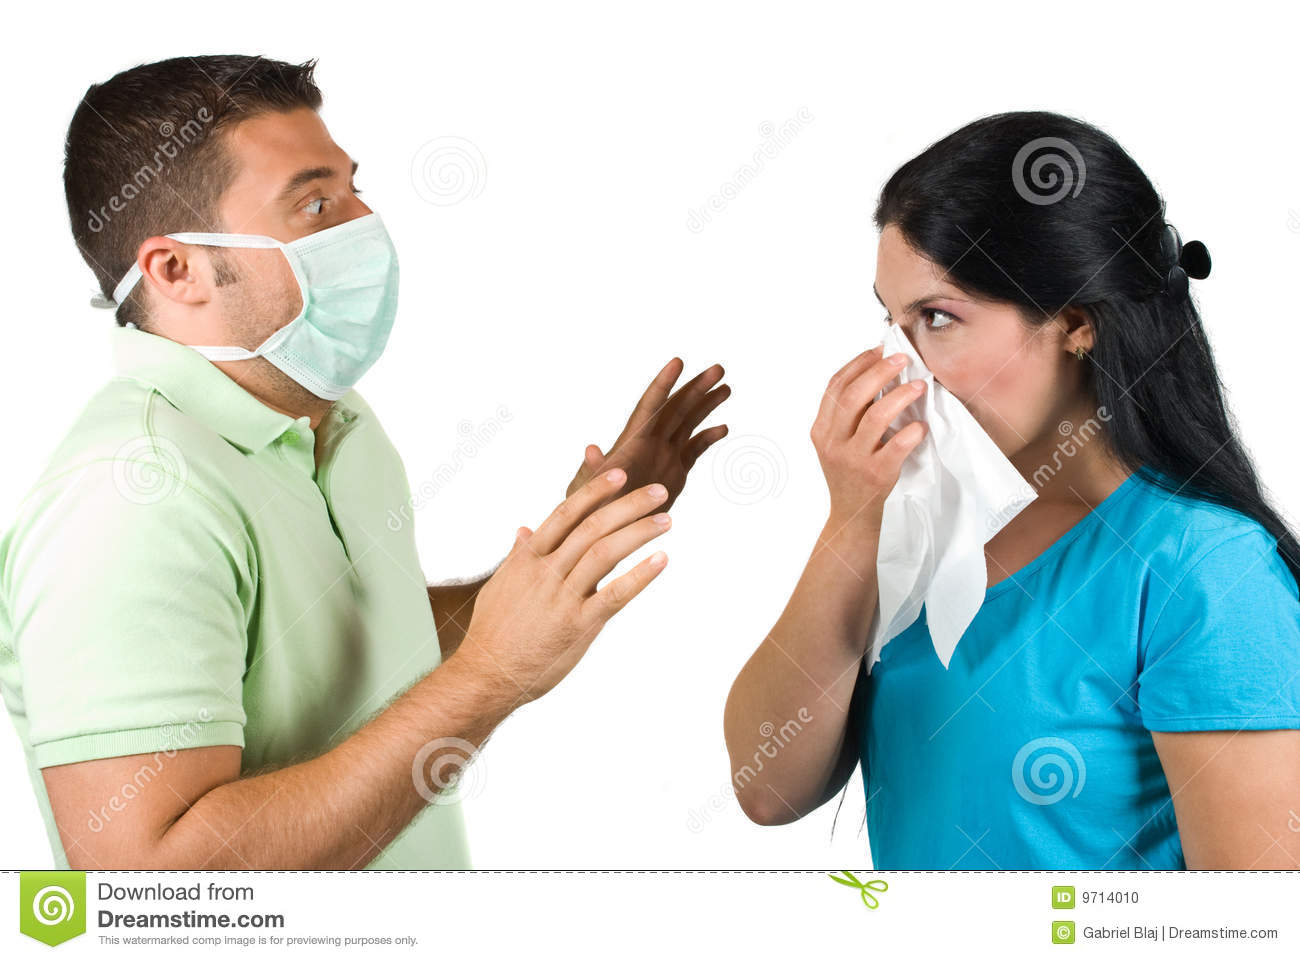mask: (257, 219, 399, 400)
